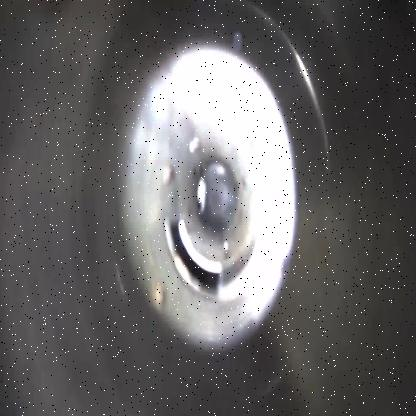Crack2: (163, 217, 225, 298)
